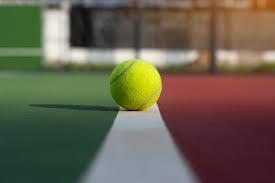tennis_ball: (108, 57, 162, 112)
